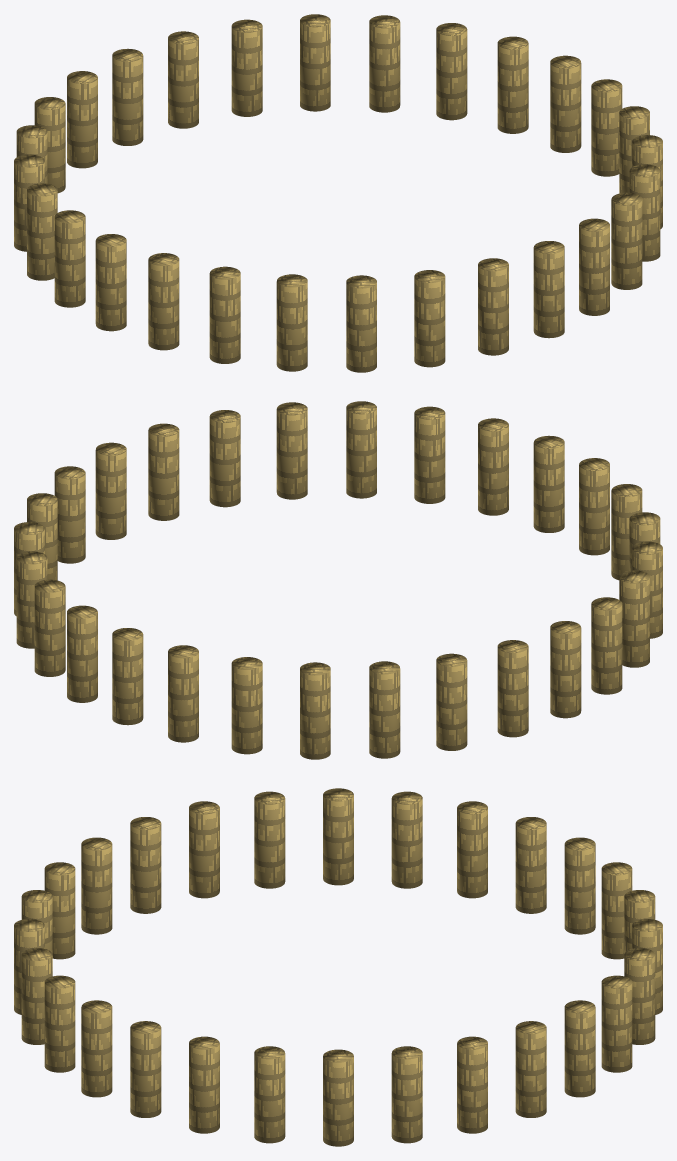
File: pillars.fbx
3 views of the same model, one above another, from view 1: azimuth 30°, elevation 25°; view 2: azimuth 150°, elevation 25°; view 3: azimuth 270°, elevation 25° (orthographic).
Visible parts, largest first — view 1: Cylinder; view 2: Cylinder; view 3: Cylinder.
Part boxes in pixels (x1=…): Cylinder: x1=14, y1=14, x2=662, y2=372; Cylinder: x1=14, y1=401, x2=662, y2=759; Cylinder: x1=14, y1=788, x2=662, y2=1146.
Bounding box in the file's own units: 4200 × 600 × 4200.
